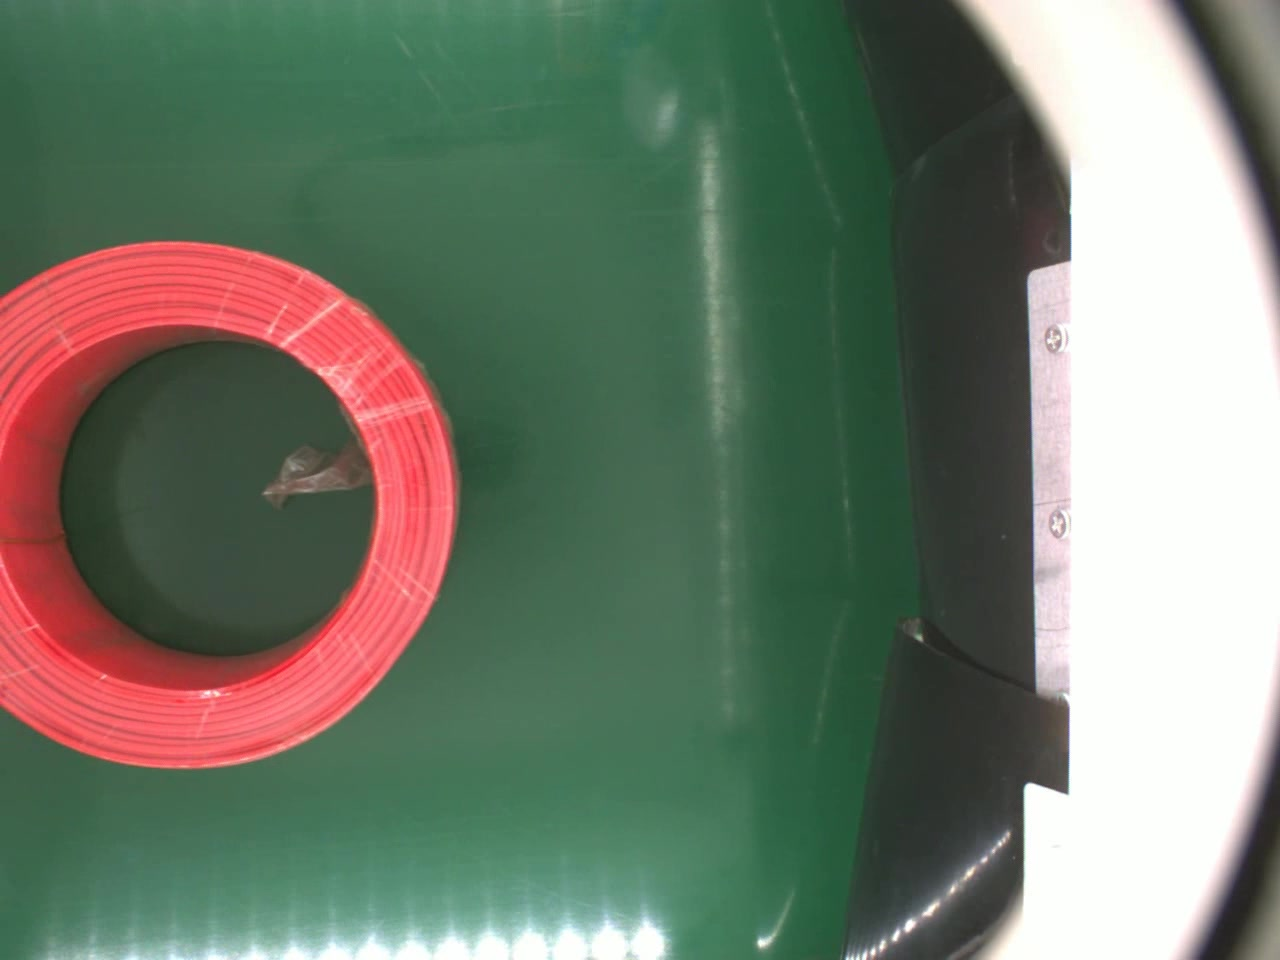red: (0, 237, 462, 774)
